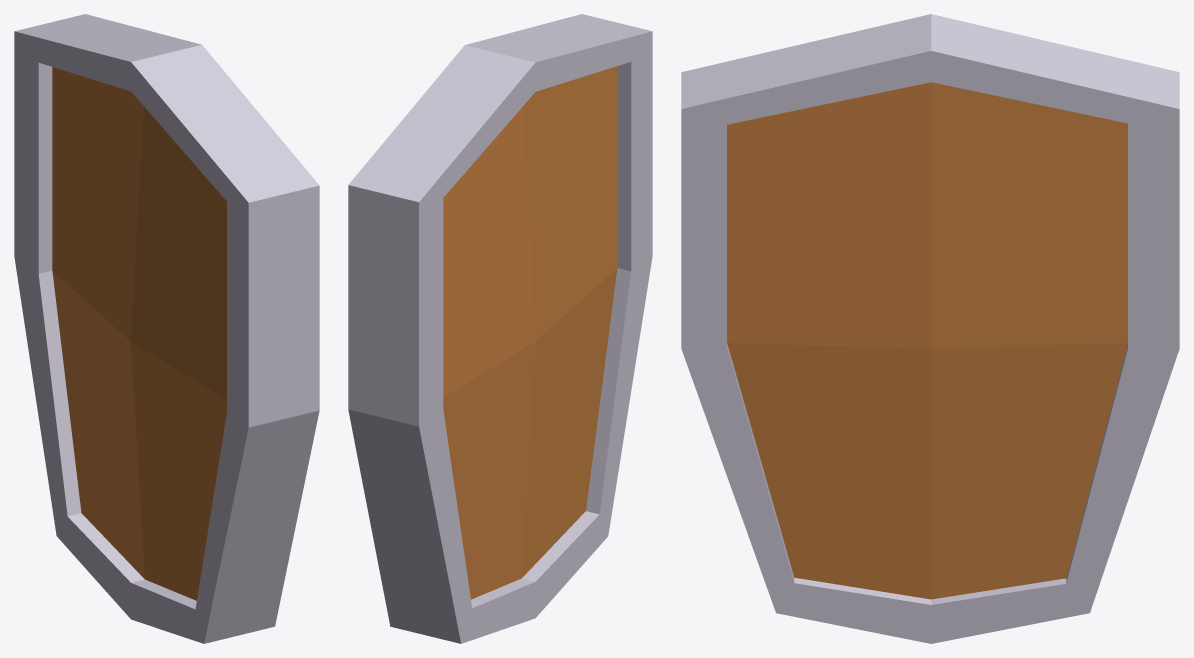
Rendered from ArmorPrefab.fbx.
3 renders of one model, left to right at view 1: azimuth 30°, elevation 25°; view 2: azimuth 150°, elevation 25°; view 3: azimuth 270°, elevation 25°, orthographic. The views are drawn at different scales.
Visible parts, largest first — view 1: Cube; view 2: Cube; view 3: Cube.
Boxes of the visible parts, x1=… form: Cube: x1=14, y1=14, x2=319, y2=643; Cube: x1=348, y1=14, x2=652, y2=643; Cube: x1=681, y1=14, x2=1179, y2=643.
Bounding box in the file's own units: 30.54 × 225 × 171.
